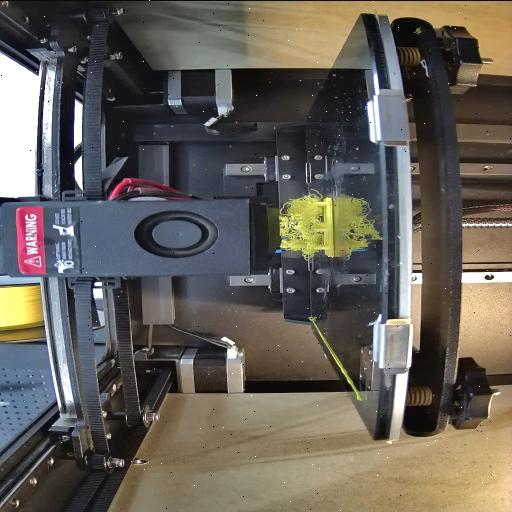spaghetti: (272, 192, 326, 258)
